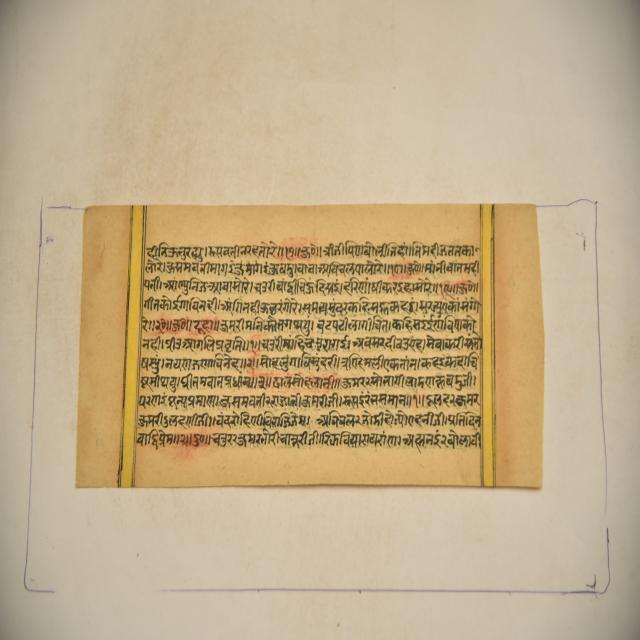text_paragraph: (76, 206, 541, 488)
